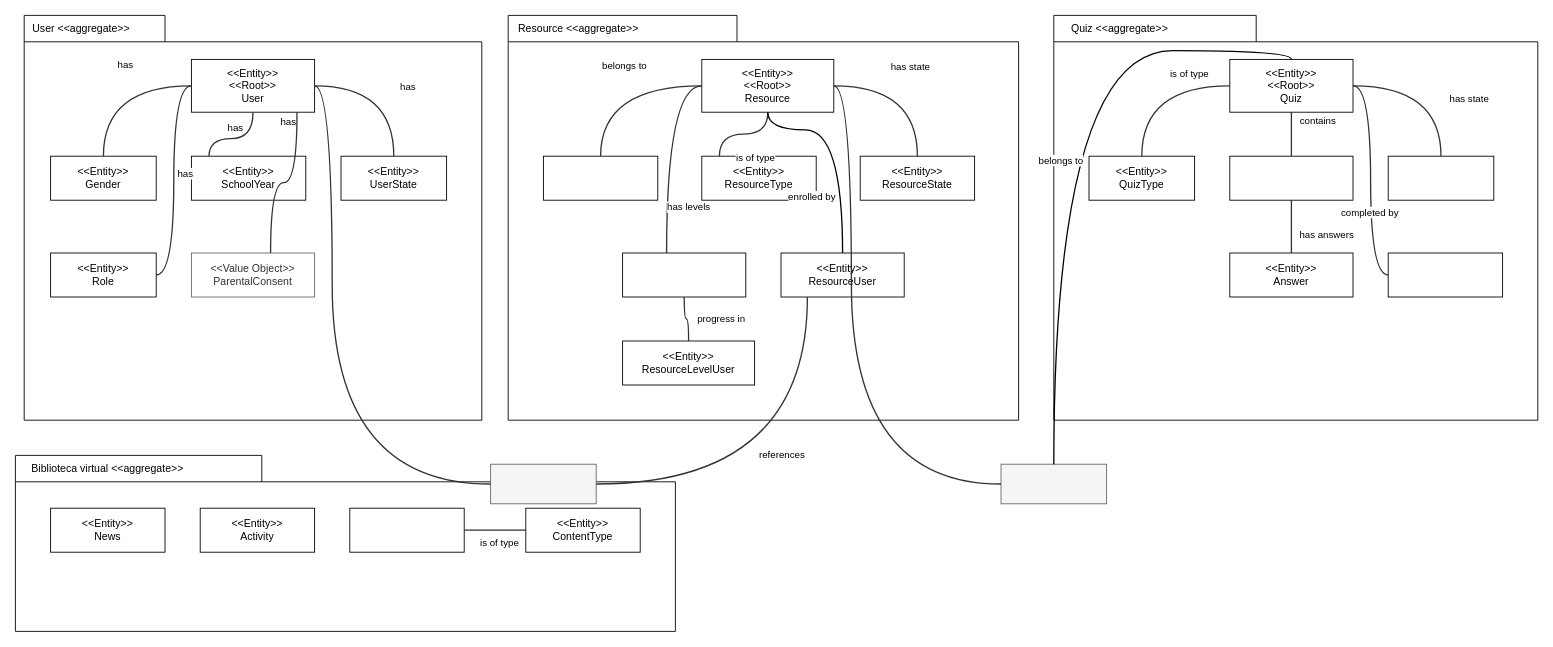
Some shapes in this 1553 by 647 pixel diagram are drawn without their labels. The shapes that lost their labels are listed below. From the top down, each one's centre as x and y in pixels, then its label:
(600,177): <<Entity>> HealthArea
(1291,177): <<Entity>> Question
(1440,177): <<Entity>> QAState
(684,274): <<Entity>> ResourceLevel
(1445,274): <<Entity>> QuizUser
(543,483): <<Value Object>> User ID
(1053,483): <<Value Object>> Resource ID
(406,529): <<Entity>> Content
